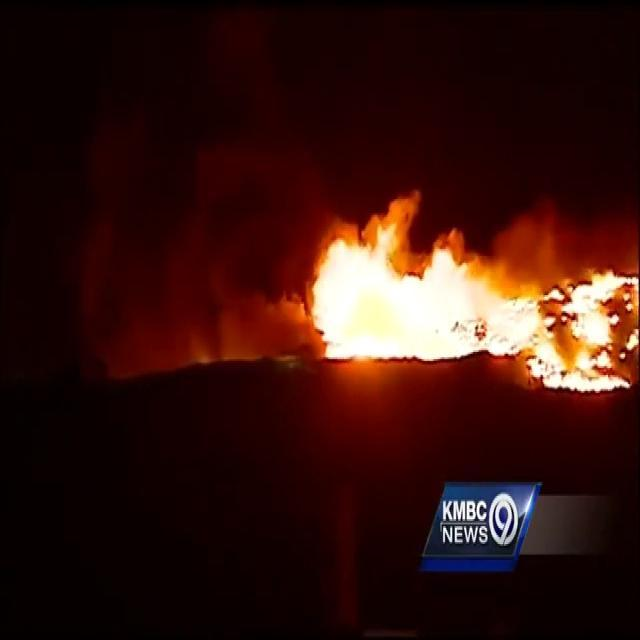Fire: (291, 177, 639, 385)
Smoke: (66, 26, 308, 372)
